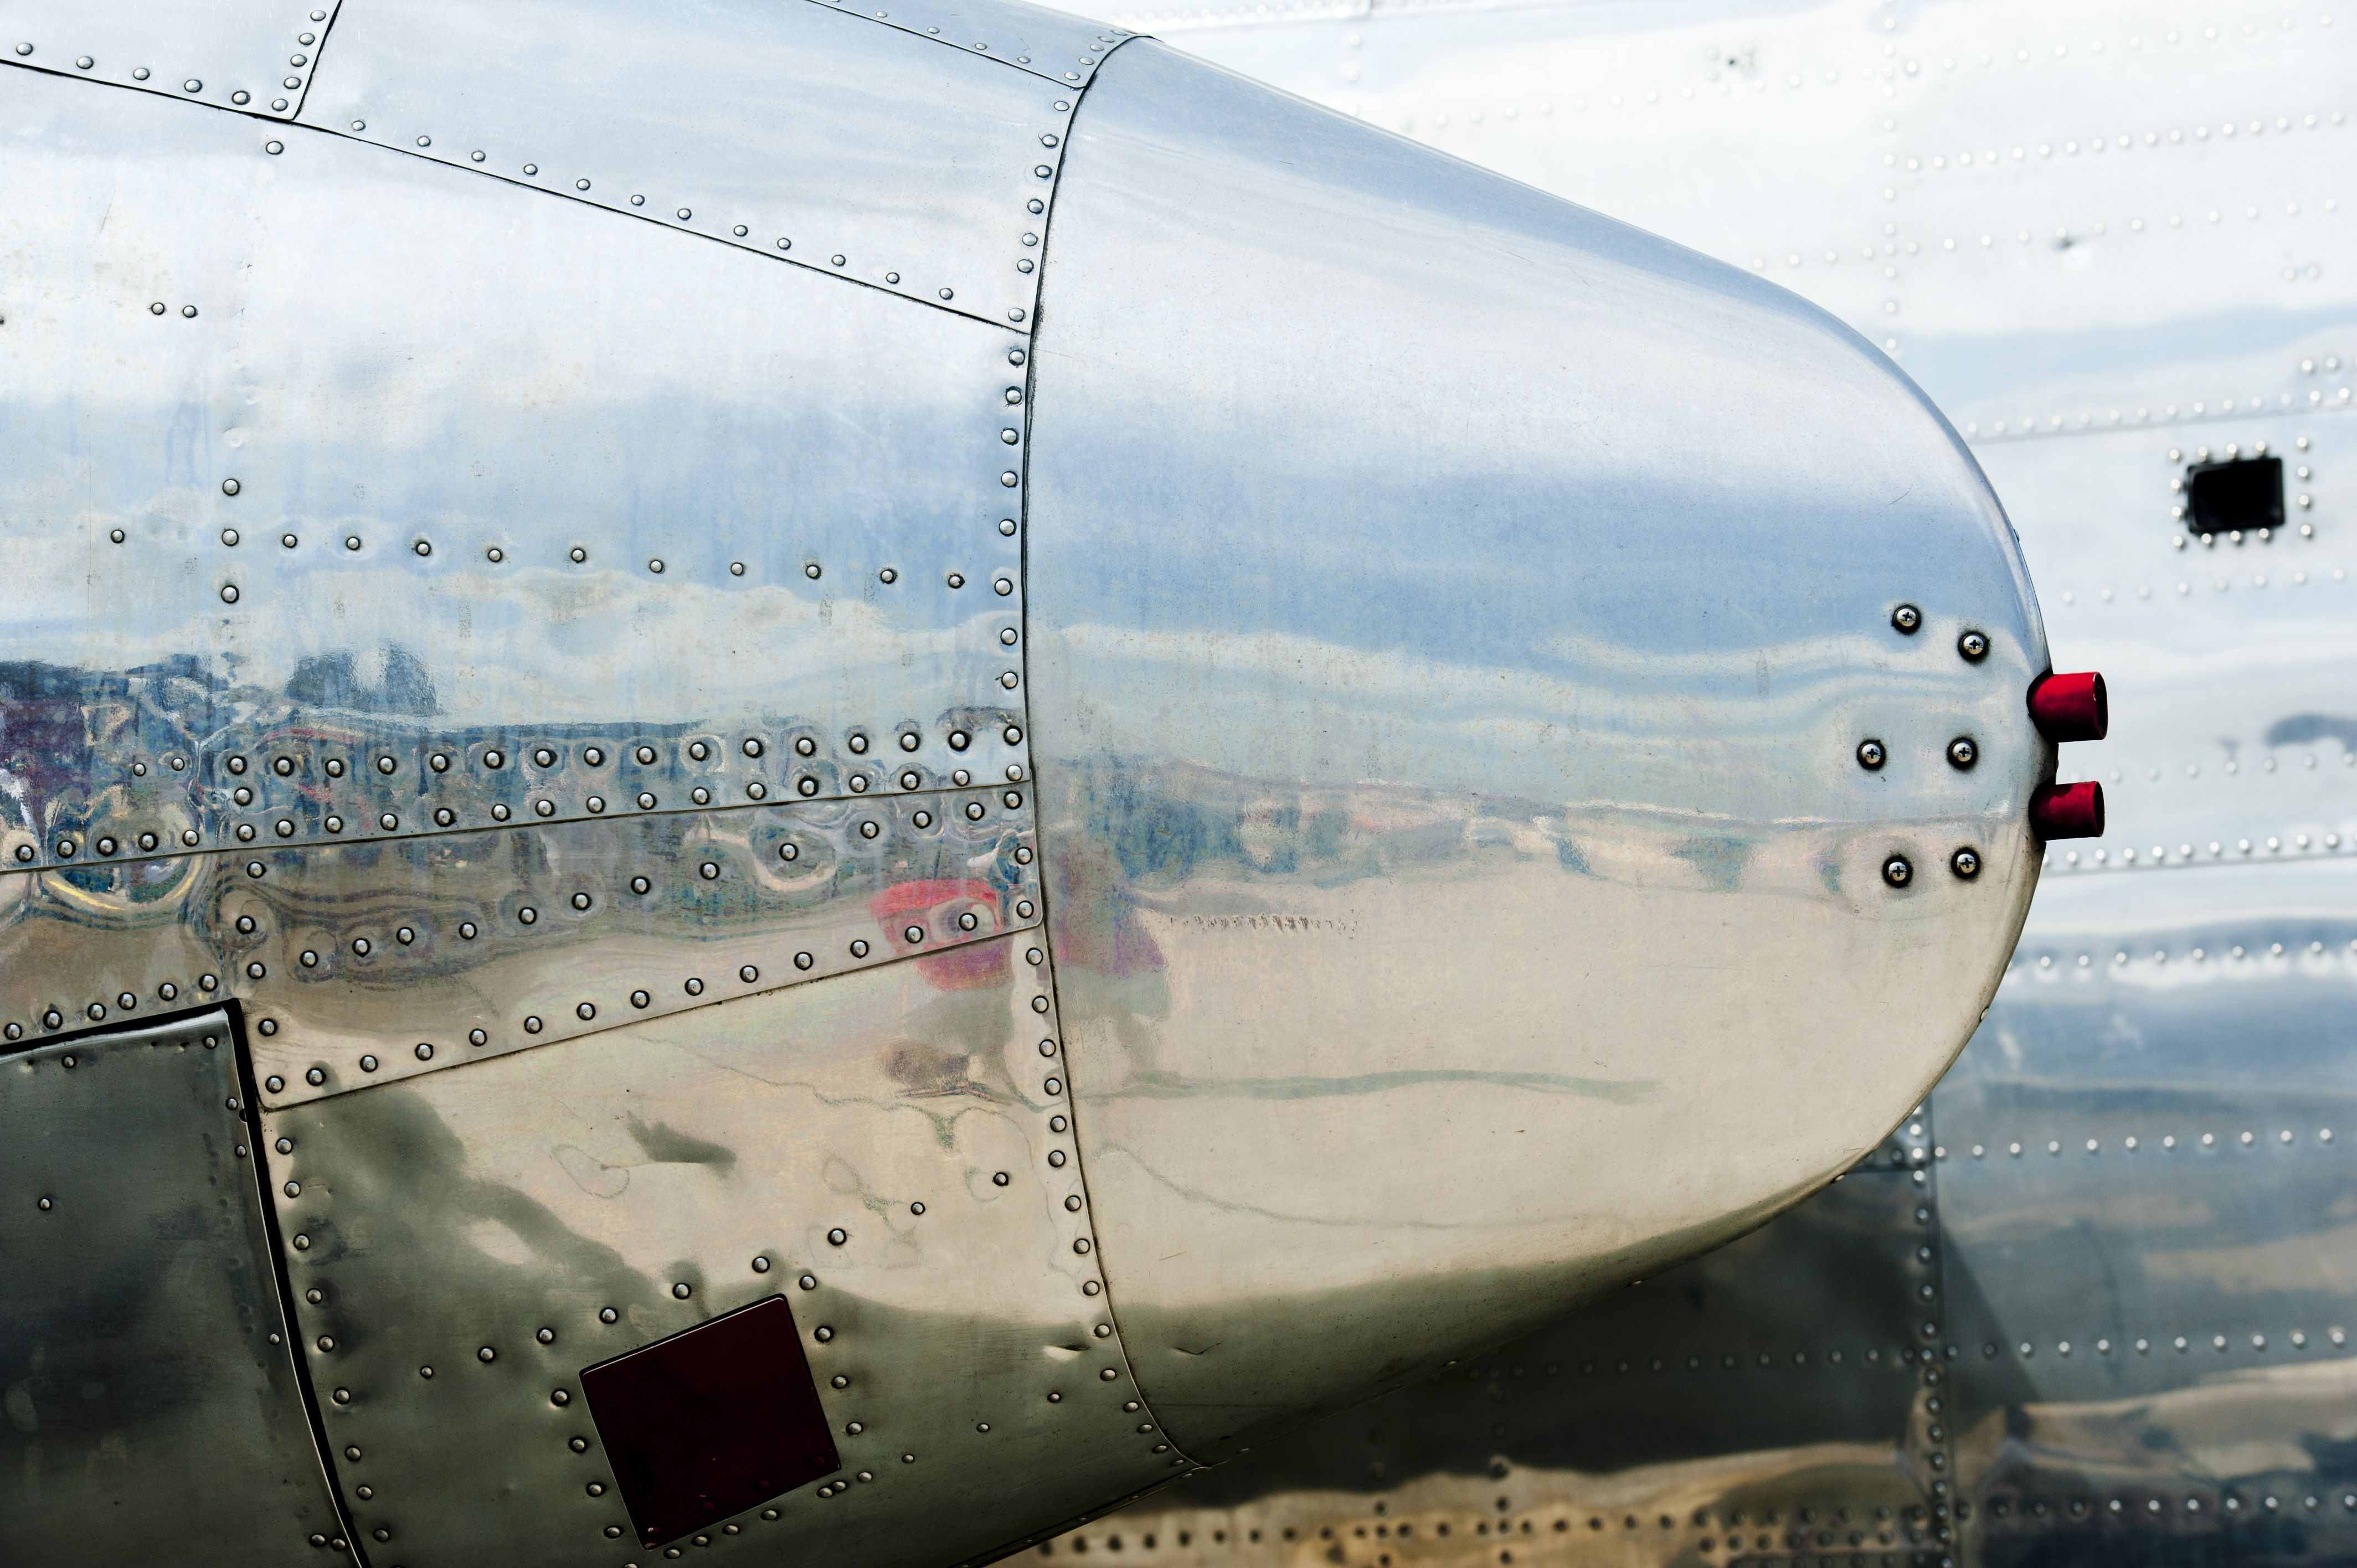rivet: (94, 829, 121, 861), (38, 1003, 66, 1031), (294, 947, 322, 973), (329, 1382, 357, 1409), (9, 842, 38, 866), (1001, 381, 1027, 408), (346, 933, 373, 959), (114, 989, 140, 1015), (271, 815, 297, 842), (233, 819, 259, 845), (135, 828, 161, 854), (82, 997, 108, 1024), (775, 838, 801, 864), (255, 1013, 280, 1041), (194, 971, 222, 996), (1041, 1073, 1066, 1101), (854, 817, 882, 842), (1003, 301, 1029, 325), (1003, 345, 1029, 369), (217, 527, 243, 551), (243, 957, 268, 983), (233, 912, 257, 938), (231, 782, 255, 808), (52, 836, 79, 861), (271, 1132, 297, 1157), (898, 728, 922, 754), (684, 737, 710, 761), (532, 745, 558, 770), (479, 745, 504, 772), (320, 810, 345, 836), (686, 782, 712, 807), (390, 924, 418, 947), (432, 801, 455, 829), (304, 5, 334, 26), (2285, 1328, 2310, 1353), (341, 532, 366, 556), (217, 581, 241, 605), (227, 86, 252, 110), (154, 980, 178, 1004), (548, 1386, 572, 1410), (824, 1225, 849, 1249), (1001, 724, 1025, 749), (633, 742, 658, 766), (376, 808, 401, 833), (488, 800, 513, 824), (948, 766, 973, 791), (696, 857, 721, 882), (996, 518, 1022, 541), (241, 857, 268, 880), (565, 1433, 591, 1456), (341, 1440, 364, 1466), (812, 1323, 838, 1346), (628, 987, 654, 1010), (791, 950, 817, 973), (947, 726, 969, 752), (898, 772, 924, 794), (324, 754, 345, 782), (2326, 562, 2348, 586), (2326, 1326, 2350, 1349), (1038, 129, 1062, 152), (1018, 227, 1043, 250), (180, 75, 205, 98), (719, 1517, 744, 1540), (313, 1332, 338, 1354), (301, 1284, 325, 1307), (1090, 1319, 1115, 1342), (794, 1272, 819, 1295), (301, 1066, 325, 1088), (574, 999, 598, 1022), (682, 975, 707, 997), (992, 576, 1015, 600), (740, 735, 763, 759), (581, 744, 604, 768), (583, 793, 607, 815), (455, 917, 478, 941), (569, 891, 593, 913), (910, 808, 934, 831), (280, 73, 306, 94), (285, 49, 311, 70), (12, 38, 38, 59), (756, 1505, 784, 1524), (2189, 441, 2212, 464), (1781, 1529, 1804, 1552), (2168, 1333, 2191, 1356), (2004, 1137, 2026, 1160), (997, 425, 1020, 448), (999, 469, 1022, 492), (411, 537, 434, 560), (264, 136, 287, 159), (105, 525, 128, 548), (128, 61, 150, 84), (271, 754, 294, 777), (224, 752, 247, 775), (128, 758, 150, 780), (842, 1417, 864, 1440), (290, 1228, 313, 1251), (280, 1178, 303, 1200), (1080, 1277, 1102, 1300), (751, 1253, 773, 1276), (1062, 1192, 1085, 1214), (357, 1052, 380, 1074), (413, 1039, 436, 1062), (957, 910, 980, 933), (1001, 789, 1024, 812), (1013, 898, 1036, 920), (793, 735, 815, 758), (427, 751, 450, 773), (628, 873, 651, 896), (266, 94, 290, 115), (220, 476, 245, 497), (583, 1479, 607, 1500), (474, 1344, 499, 1365), (828, 1372, 852, 1393), (670, 1279, 691, 1304), (849, 936, 870, 961), (999, 667, 1020, 691), (1013, 843, 1034, 868), (534, 794, 555, 819), (745, 777, 766, 801), (962, 801, 987, 822), (849, 730, 868, 756), (2166, 532, 2189, 553), (2033, 952, 2056, 973), (2053, 1339, 2074, 1361), (828, 248, 850, 269), (565, 546, 588, 567), (180, 826, 201, 849), (812, 1484, 835, 1505), (306, 1528, 327, 1550), (353, 1484, 376, 1505), (262, 1073, 285, 1094), (597, 1305, 619, 1326), (1036, 1038, 1059, 1059), (521, 1015, 544, 1036), (803, 560, 824, 583), (376, 752, 397, 775), (635, 789, 656, 812), (1876, 1526, 1895, 1550), (1031, 163, 1055, 182), (294, 30, 318, 49), (346, 117, 371, 136), (367, 1524, 392, 1543), (1073, 1234, 1092, 1258), (2196, 528, 2217, 549), (2095, 586, 2116, 607), (2212, 574, 2233, 595), (1696, 1533, 1717, 1554), (2320, 831, 2341, 852), (2187, 943, 2208, 964), (2149, 947, 2170, 968), (1925, 1421, 1946, 1442), (2081, 1136, 2102, 1157), (1918, 1319, 1939, 1340), (1015, 255, 1036, 276), (180, 301, 201, 322), (73, 52, 94, 73), (168, 754, 189, 775), (906, 1199, 927, 1220), (1046, 1148, 1067, 1169), (1048, 1115, 1069, 1136), (467, 1027, 488, 1048), (738, 964, 759, 985), (903, 924, 924, 945), (2322, 353, 2345, 373), (1641, 1354, 1664, 1374), (2305, 940, 2327, 959), (2026, 1500, 2049, 1519), (2065, 1498, 2088, 1517), (2259, 1494, 2282, 1514), (521, 159, 541, 182), (1024, 196, 1046, 215), (147, 299, 170, 318), (59, 1050, 79, 1073), (852, 1466, 875, 1486), (534, 1326, 556, 1346), (999, 625, 1018, 647), (1004, 761, 1024, 784), (514, 906, 537, 926), (2170, 579, 2194, 597), (5, 1018, 23, 1043), (331, 1531, 348, 1556), (1911, 1144, 1930, 1165), (2163, 444, 2182, 465), (2056, 590, 2077, 609), (2133, 583, 2154, 602), (2247, 572, 2268, 591), (2289, 567, 2308, 588), (2291, 432, 2312, 451), (1727, 1507, 1748, 1526), (1760, 1505, 1781, 1524), (2257, 754, 2278, 773), (2264, 833, 2284, 854), (1860, 1346, 1881, 1365), (2292, 833, 2312, 854), (2266, 940, 2285, 961), (1990, 1500, 2011, 1519), (2222, 1494, 2242, 1515), (2208, 1333, 2229, 1353), (2133, 1335, 2152, 1356), (1928, 1479, 1949, 1498), (2016, 1339, 2035, 1360), (1979, 1342, 2000, 1361), (1916, 1283, 1935, 1304), (1913, 1244, 1934, 1263), (1909, 1169, 1930, 1188), (413, 133, 434, 152), (469, 147, 488, 168), (574, 175, 593, 196), (675, 203, 695, 224), (773, 234, 794, 254), (222, 1094, 241, 1115), (415, 1361, 436, 1381), (1097, 1365, 1118, 1384), (992, 1169, 1011, 1190), (1031, 994, 1050, 1015), (877, 565, 898, 584), (945, 570, 966, 590), (796, 777, 817, 796), (849, 772, 868, 793), (1795, 1507, 1818, 1524), (1920, 1368, 1942, 1386), (485, 548, 507, 565), (35, 1192, 52, 1214), (689, 1533, 712, 1550), (2226, 528, 2245, 548), (2166, 474, 2186, 493), (2294, 492, 2313, 511), (1815, 1529, 1834, 1549), (2182, 761, 2201, 780), (2229, 943, 2249, 962), (1934, 1526, 1953, 1545), (2182, 1496, 2201, 1515), (2315, 1127, 2334, 1146), (2249, 1333, 2268, 1353), (2121, 1134, 2140, 1153), (1928, 1451, 1948, 1470), (1923, 1398, 1942, 1417), (1913, 1206, 1932, 1225), (1967, 1141, 1986, 1160), (628, 191, 647, 210), (936, 282, 955, 301), (831, 1477, 850, 1496), (1025, 947, 1045, 966), (1904, 1503, 1925, 1521), (2203, 840, 2224, 857), (2340, 1493, 2357, 1514), (2159, 1132, 2177, 1153), (1941, 1344, 1962, 1361), (1050, 96, 1071, 114), (602, 1524, 623, 1542), (201, 1031, 219, 1052), (233, 1139, 250, 1160), (730, 558, 747, 579), (1890, 1146, 1906, 1169), (1120, 1400, 1143, 1416), (1508, 1361, 1526, 1381), (1976, 231, 1995, 248), (2105, 406, 2124, 423), (2336, 383, 2354, 402), (2298, 357, 2315, 376), (2222, 441, 2240, 460), (2298, 523, 2315, 542), (2294, 464, 2313, 481), (1755, 1533, 1774, 1550), (1727, 1531, 1745, 1550), (2175, 842, 2193, 861), (1930, 1143, 1948, 1162), (2110, 950, 2130, 968), (1932, 1505, 1951, 1522), (2144, 1496, 2161, 1515), (2238, 1129, 2256, 1148), (2198, 1129, 2215, 1148), (1918, 1346, 1935, 1365), (2093, 1337, 2112, 1354), (2044, 1139, 2063, 1157), (731, 222, 751, 240), (884, 269, 903, 287), (278, 532, 297, 549), (898, 1451, 917, 1468), (1046, 1388, 1064, 1407), (2009, 521, 2025, 542), (2298, 752, 2319, 768), (2236, 836, 2252, 857), (663, 1547, 684, 1563), (1134, 1421, 1157, 1435), (1577, 1360, 1594, 1377), (1956, 150, 1974, 168), (1930, 154, 1948, 171), (2305, 264, 2322, 282), (2189, 399, 2207, 416), (2219, 395, 2236, 413), (1846, 1528, 1864, 1545), (1874, 1503, 1892, 1521), (1610, 1356, 1627, 1374), (2144, 765, 2161, 782), (2091, 847, 2109, 864), (1897, 1346, 1914, 1363), (2107, 1498, 2124, 1515), (264, 1330, 282, 1347), (1977, 1001, 1993, 1020), (1465, 1363, 1480, 1382), (1542, 1361, 1561, 1377), (2168, 506, 2187, 521), (2222, 758, 2238, 777), (2151, 843, 2166, 863), (2277, 1129, 2296, 1144), (647, 560, 667, 576), (1442, 1356, 1459, 1372), (1487, 1365, 1503, 1382), (1489, 1386, 1507, 1402), (1491, 1423, 1508, 1438), (2247, 119, 2264, 135), (2035, 142, 2053, 157), (1904, 157, 1921, 173), (1881, 150, 1897, 168), (1748, 255, 1766, 271), (2282, 266, 2298, 283), (2205, 208, 2222, 224), (2135, 404, 2152, 420), (2165, 402, 2180, 420), (2247, 394, 2264, 409), (1907, 1529, 1925, 1545), (1718, 1353, 1736, 1368), (1753, 1351, 1771, 1367), (2105, 766, 2123, 782), (2063, 849, 2079, 866), (2121, 845, 2137, 863), (2301, 1494, 2319, 1510), (1059, 73, 1085, 84), (2074, 955, 2093, 969), (1935, 1554, 1955, 1568), (1909, 1123, 1925, 1139), (2166, 128, 2182, 143), (2009, 143, 2025, 159), (1883, 117, 1899, 133), (1787, 252, 1802, 268), (1860, 245, 1876, 261), (2091, 220, 2107, 236), (2016, 229, 2032, 245), (1942, 236, 1958, 252), (1883, 266, 1899, 282), (2049, 413, 2065, 429), (2278, 392, 2294, 408), (2254, 439, 2270, 455), (1683, 1356, 1699, 1372), (1790, 1349, 1806, 1365), (1830, 1171, 1848, 1185), (2089, 136, 2107, 150), (1879, 187, 1897, 201), (1823, 250, 1837, 268), (2322, 198, 2340, 212), (2242, 205, 2259, 219), (2166, 213, 2184, 227), (2130, 215, 2144, 233), (2019, 416, 2037, 430), (2254, 528, 2271, 542), (1837, 1507, 1855, 1521), (975, 1421, 992, 1435), (2219, 124, 2238, 136), (1151, 1444, 1171, 1456), (2275, 117, 2291, 131), (1883, 220, 1897, 236), (2054, 224, 2068, 240), (1906, 240, 1920, 255), (1883, 241, 1897, 257), (1883, 299, 1899, 313), (1885, 336, 1900, 350), (2077, 411, 2093, 425), (1827, 1349, 1843, 1363), (2193, 126, 2210, 138), (1984, 147, 1997, 164), (1627, 1277, 1647, 1288), (2144, 133, 2158, 147), (2065, 140, 2079, 154), (1965, 422, 1979, 436), (2308, 390, 2322, 404), (2116, 135, 2131, 147), (1995, 418, 2007, 434), (2301, 117, 2319, 128), (1234, 1445, 1251, 1456), (1169, 1458, 1186, 1468), (2327, 115, 2347, 124), (2284, 203, 2299, 213), (1127, 1493, 1144, 1501), (1178, 1472, 1195, 1480), (1074, 1515, 1088, 1526)
screw: (1946, 842, 1986, 884), (1886, 600, 1925, 639), (1953, 628, 1991, 663), (1881, 854, 1913, 889), (1855, 737, 1886, 772), (1948, 735, 1979, 768)
